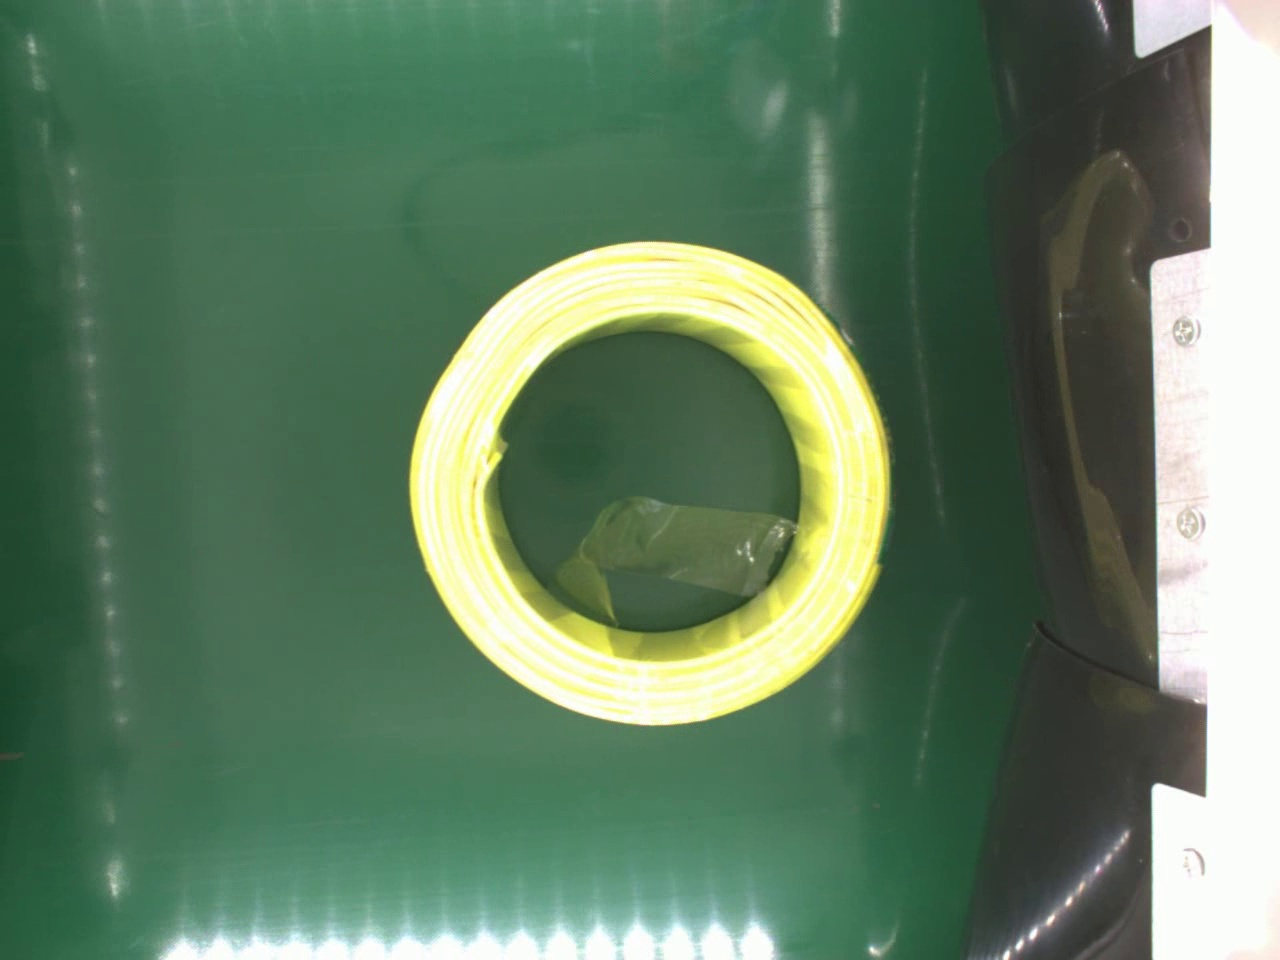yellow: (409, 238, 894, 733)
